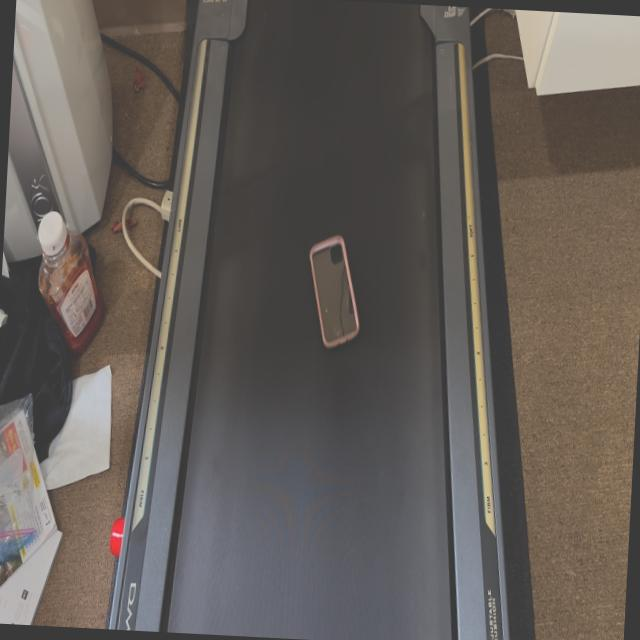Trash: (305, 235, 367, 354)
